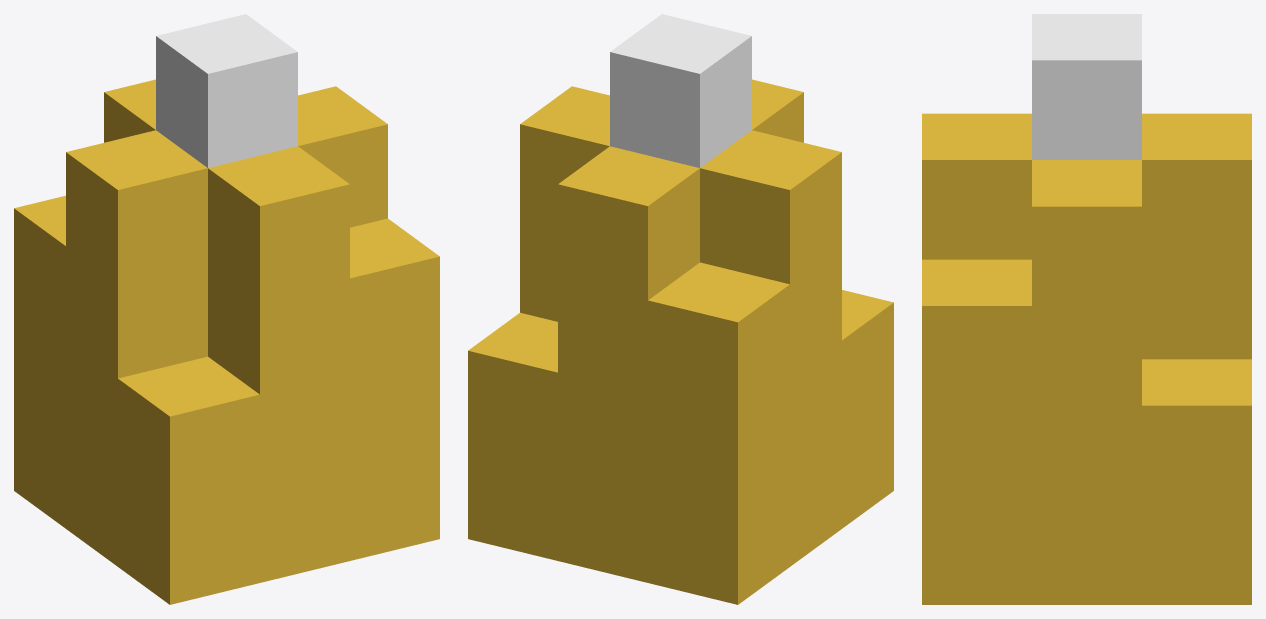
The model's file is Lantern Candle.obj.
3 views of the same model, side by side, from view 1: azimuth 30°, elevation 25°; view 2: azimuth 150°, elevation 25°; view 3: azimuth 270°, elevation 25° (orthographic). The views are drawn at different scales.
Size of the model in its own units: 3 by 5 by 3.
1 material, 1 textured.
